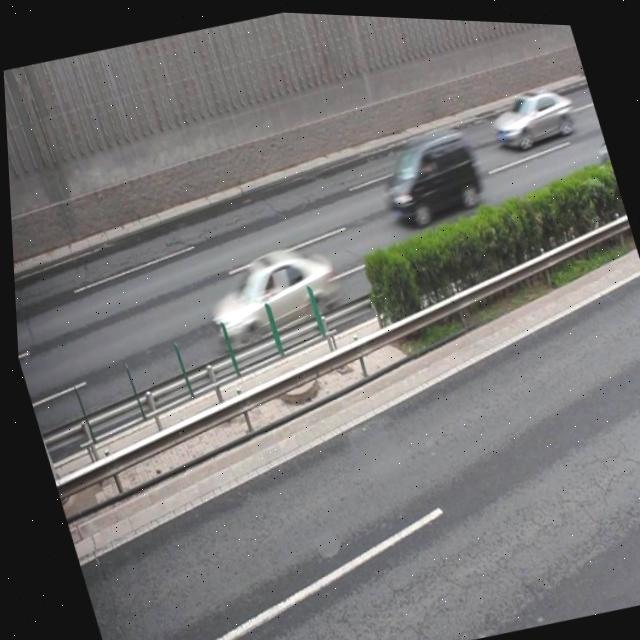car: (191, 230, 342, 351), (367, 116, 488, 226), (481, 75, 578, 152)
